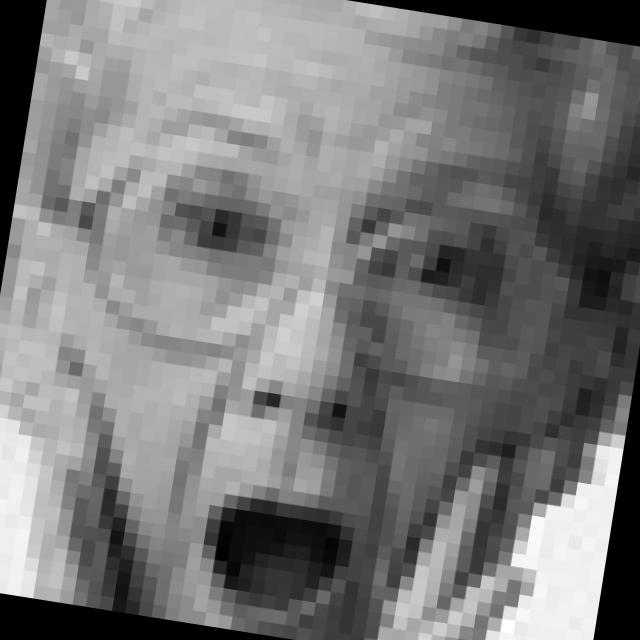surprise: (28, 92, 555, 640)
